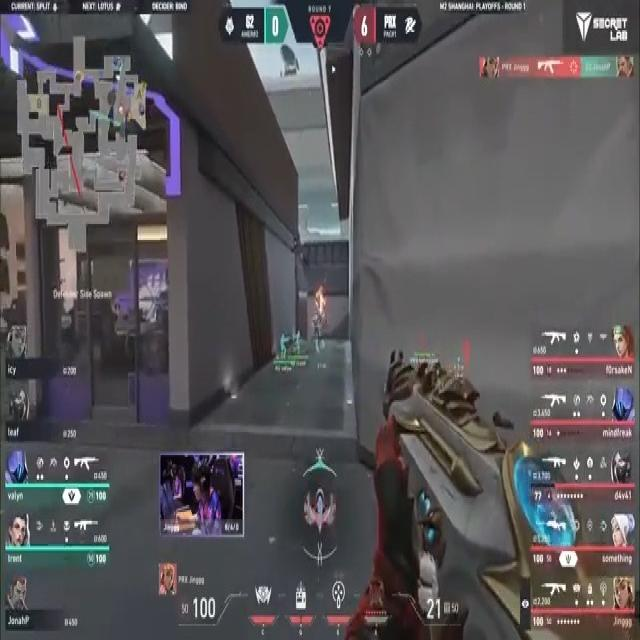ally behind wall: (277, 331, 291, 360), (296, 325, 302, 356)
